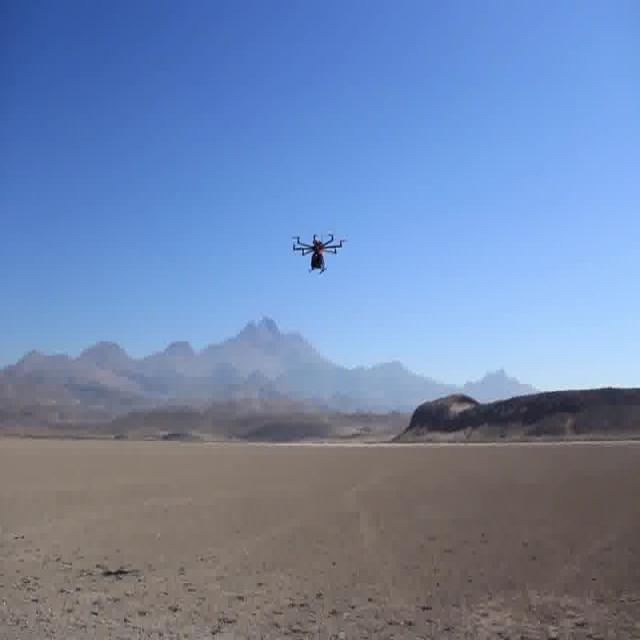drone: (288, 218, 349, 286)
